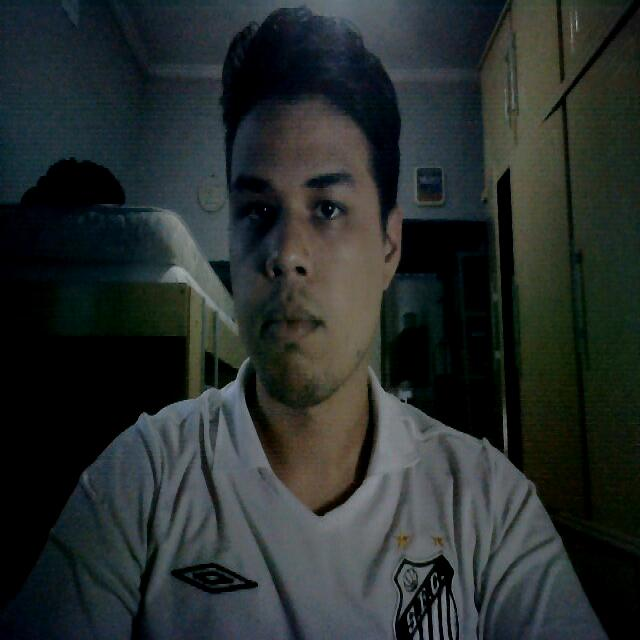acordado: (225, 119, 391, 408)
